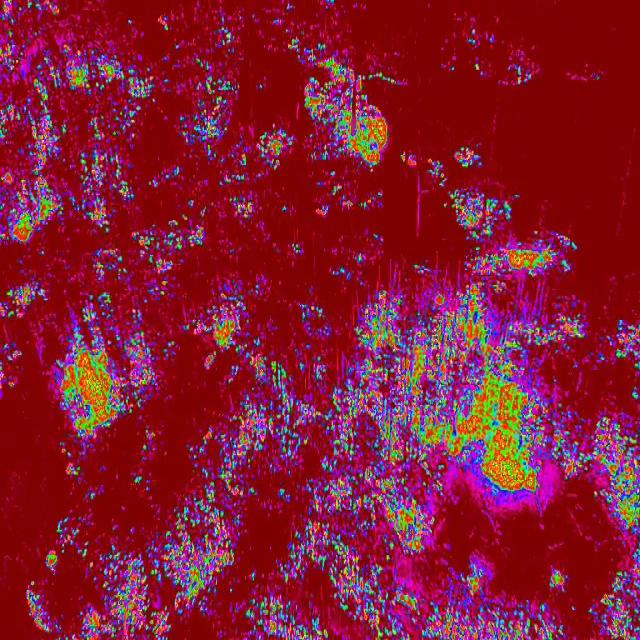fire: (0, 0, 406, 448), (407, 144, 640, 495), (70, 447, 406, 640), (406, 556, 640, 640), (22, 582, 70, 640), (603, 496, 640, 558), (406, 496, 436, 555), (44, 514, 70, 574)
